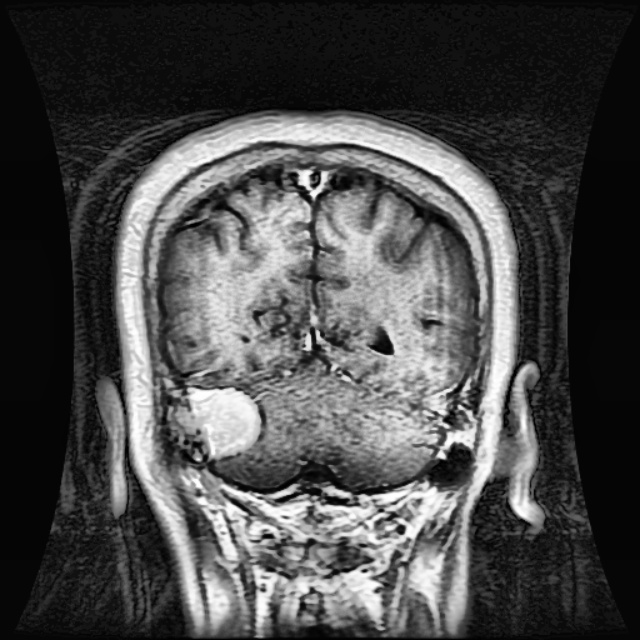Glioma: (189, 387, 262, 458)
